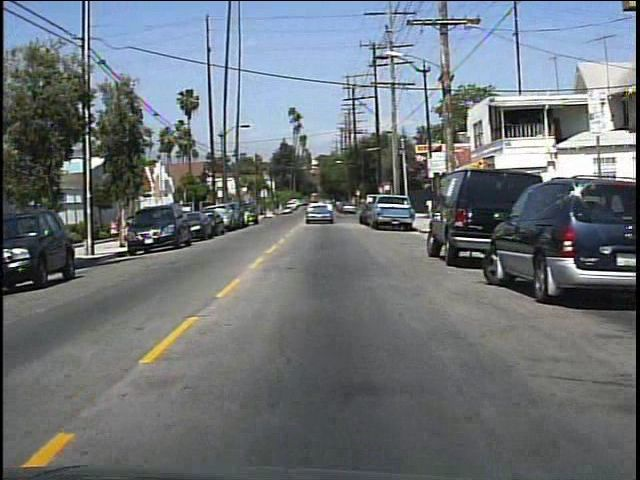person: (421, 193, 437, 221)
